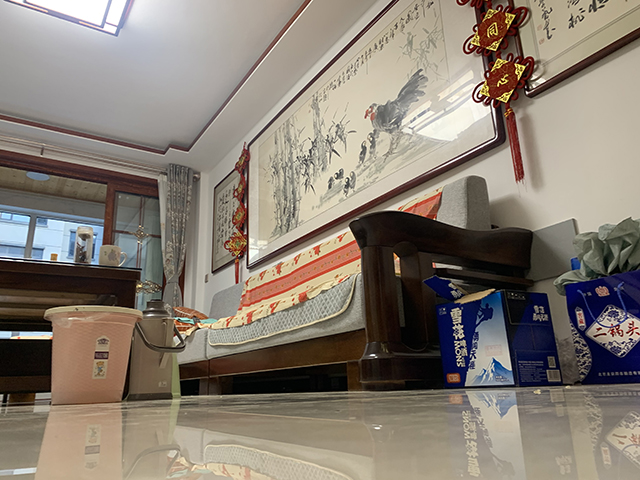sofa: (178, 174, 533, 394)
table: (1, 256, 141, 404)
trashcan: (43, 304, 142, 405)
